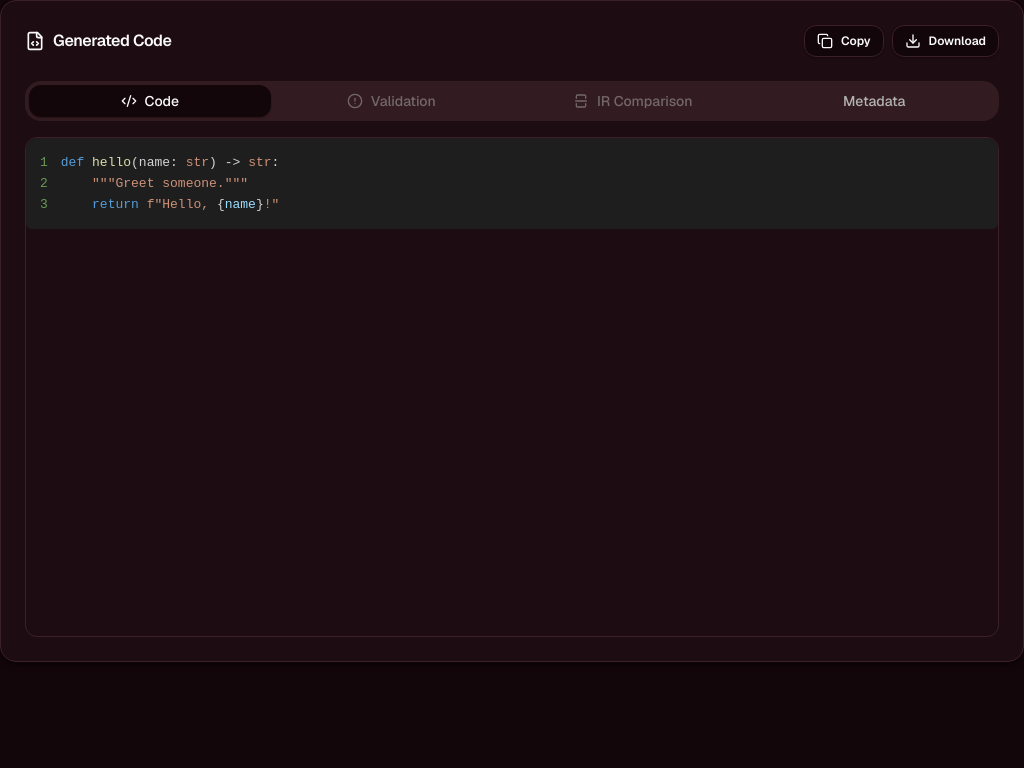
CodePreview › displays no metadata message when metadata is empty
The image size is (1024, 768).
Click the tab "Metadata" at (874, 101), box [754,85,995,117]
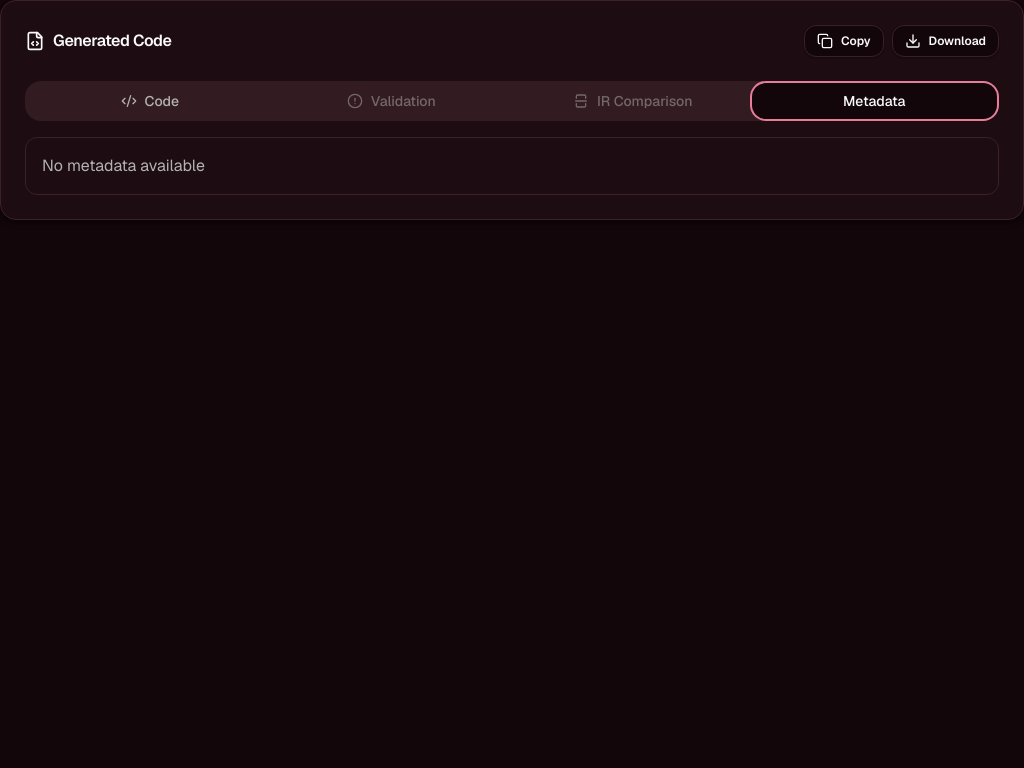
Check: the text "No metadata available" is shown, box [42,155,205,176]
